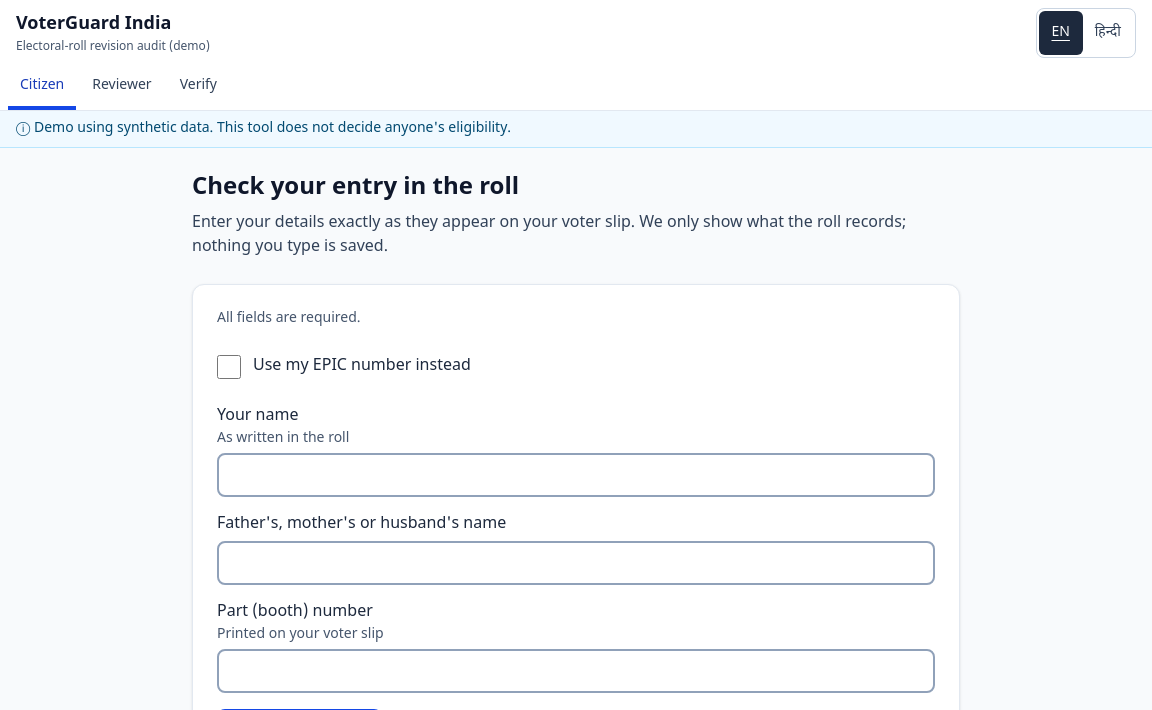
Language toggle › switches visible text to Hindi and persists the choice
This screenshot has width=1152, height=710.
Expected: the heading "Check your entry in the roll" is shown, x1=192 y1=172 x2=519 y2=204
Expected: the text "Demo using synthetic data. This tool does not decide anyone's eligibility." is shown, x1=34 y1=119 x2=511 y2=138
Click the button "हिन्दी" at (1108, 33), box x1=1083 y1=11 x2=1133 y2=55
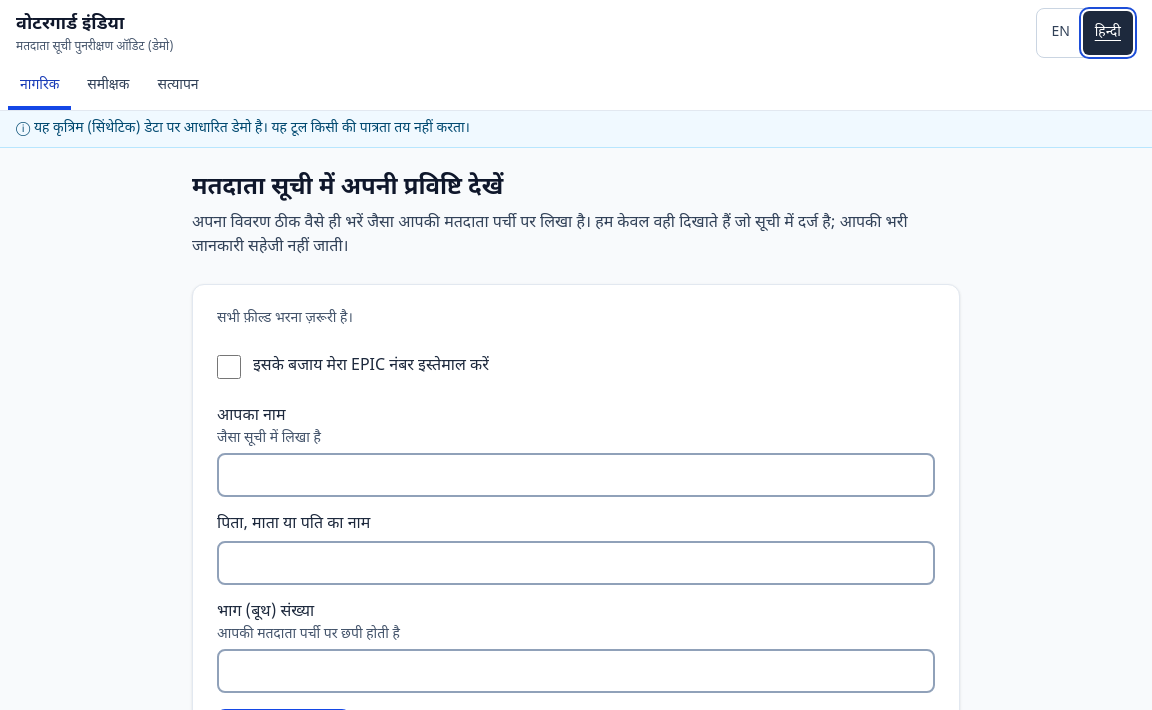
Expected: the heading "मतदाता सूची में अपनी प्रविष्टि देखें" is shown, x1=192 y1=172 x2=503 y2=204
Expected: the text "यह कृत्रिम (सिंथेटिक) डेटा पर आधारित डेमो है। यह टूल किसी की पात्रता तय नहीं करता।" is shown, x1=34 y1=119 x2=470 y2=138
Expected: the link "नागरिक" is shown, x1=8 y1=66 x2=71 y2=110
